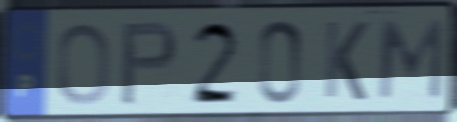0: (256, 17, 304, 106)
2: (186, 18, 244, 106)
K: (321, 17, 371, 104)
M: (374, 17, 446, 103)
O: (54, 20, 113, 108)
P: (117, 18, 180, 108)
